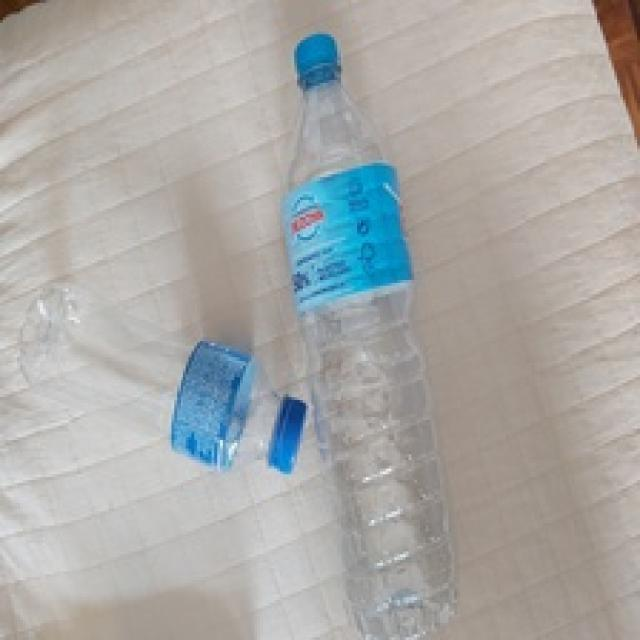Plastic: (281, 33, 457, 640), (17, 286, 309, 472)
